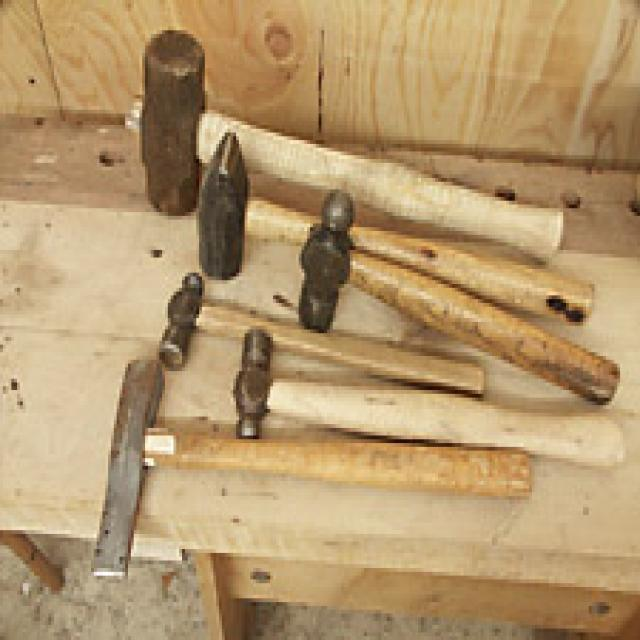hammer: (120, 19, 578, 270), (82, 351, 540, 586), (121, 112, 594, 279), (198, 312, 634, 477), (138, 258, 504, 406), (266, 188, 506, 346)
